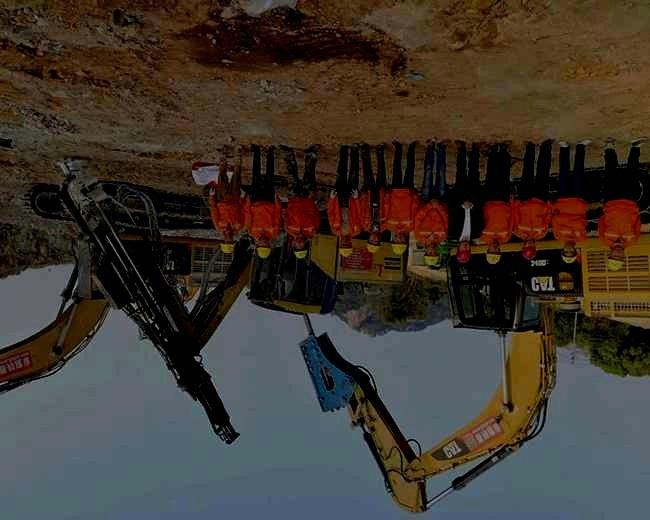helmet: (607, 245, 626, 272), (219, 230, 236, 254), (390, 233, 408, 255), (560, 242, 578, 264), (456, 240, 472, 263), (521, 238, 537, 261), (424, 244, 440, 266), (485, 242, 501, 264), (338, 235, 353, 258), (366, 233, 383, 253), (294, 236, 308, 259), (256, 238, 272, 258)
